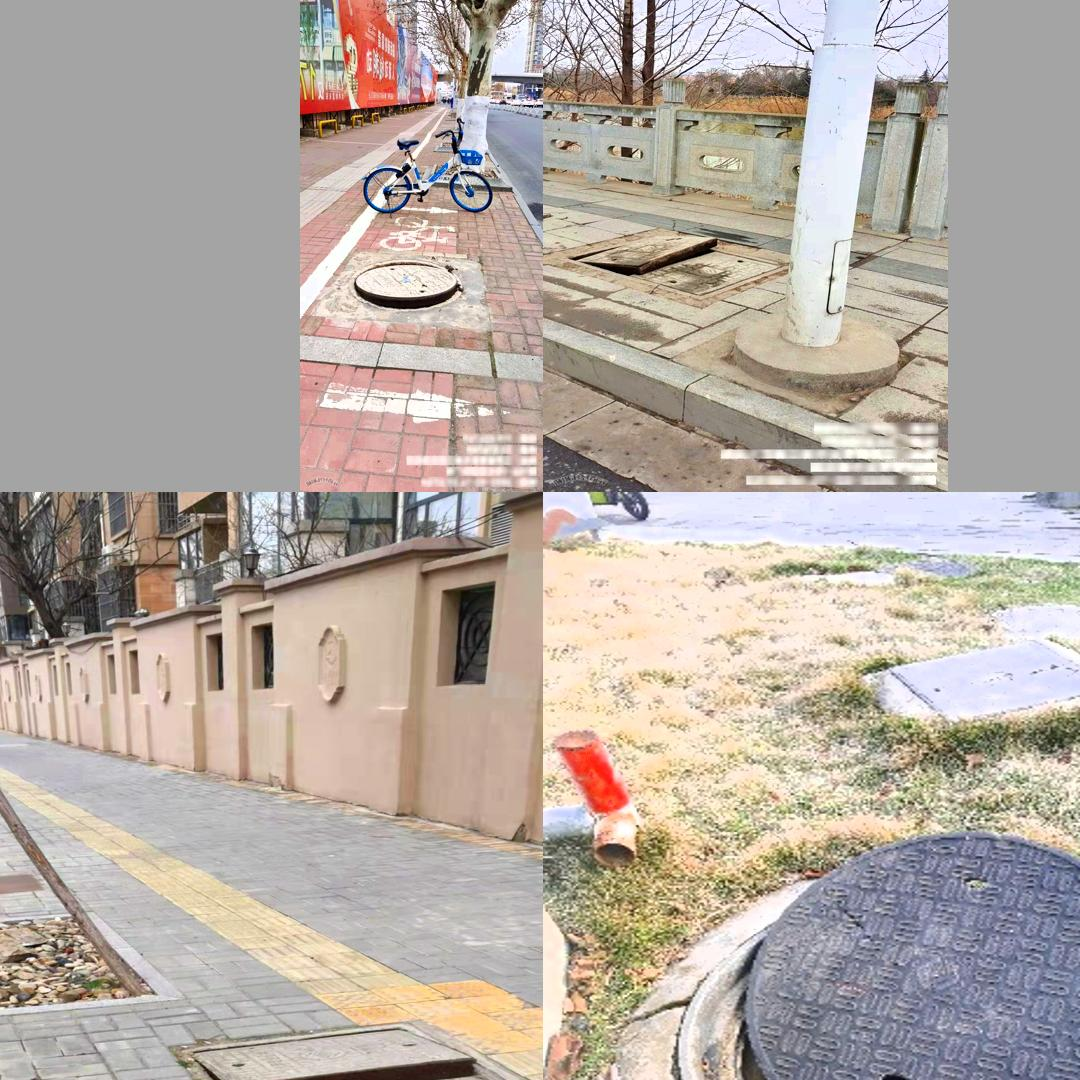good: (884, 636, 1080, 732)
uncovered: (673, 830, 1080, 1080), (167, 1023, 543, 1080), (554, 215, 729, 281), (349, 260, 462, 313)
